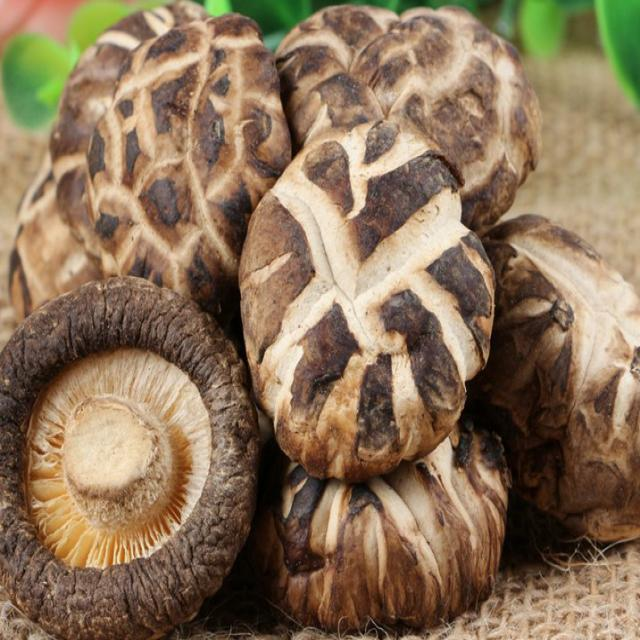Lentinus edodes: (0, 277, 260, 635), (239, 129, 499, 472), (52, 0, 290, 291), (269, 6, 543, 216), (488, 210, 640, 557)
